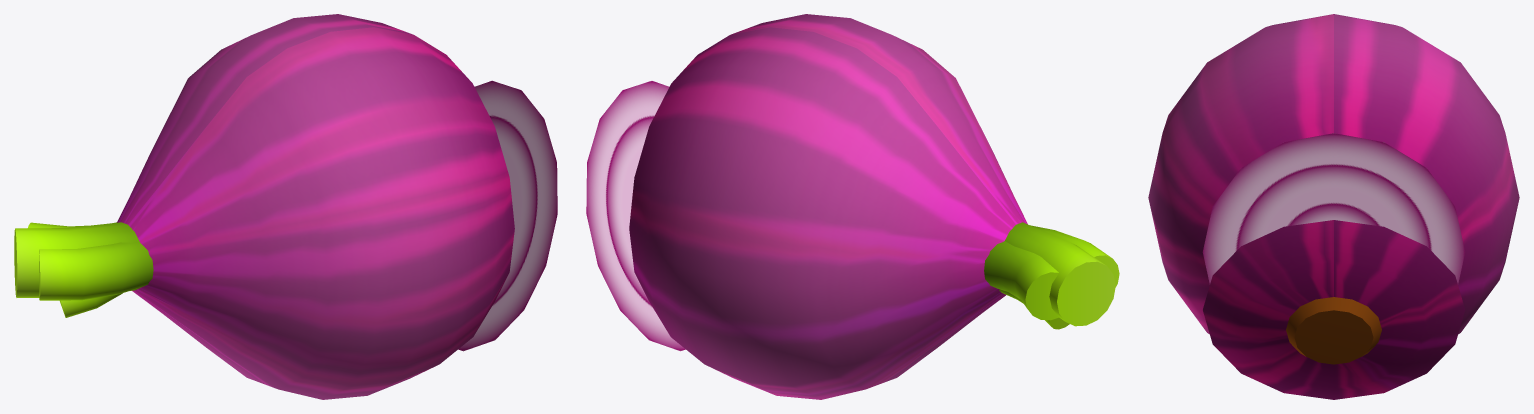
File: Onion_01_S1.fbx
3 renders of one model, left to right at view 1: azimuth 30°, elevation 25°; view 2: azimuth 150°, elevation 25°; view 3: azimuth 270°, elevation 25°, orthographic. The views are drawn at different scales.
Visible parts, largest first — view 1: Onion_01_S1; view 2: Onion_01_S1; view 3: Onion_01_S1.
Boxes of the visible parts, <box> form: Onion_01_S1: <box>14,14,557,399</box>; Onion_01_S1: <box>586,14,1119,399</box>; Onion_01_S1: <box>1148,14,1519,399</box>.
Size of the model in its own units: 49.52 by 32.97 by 32.97.
